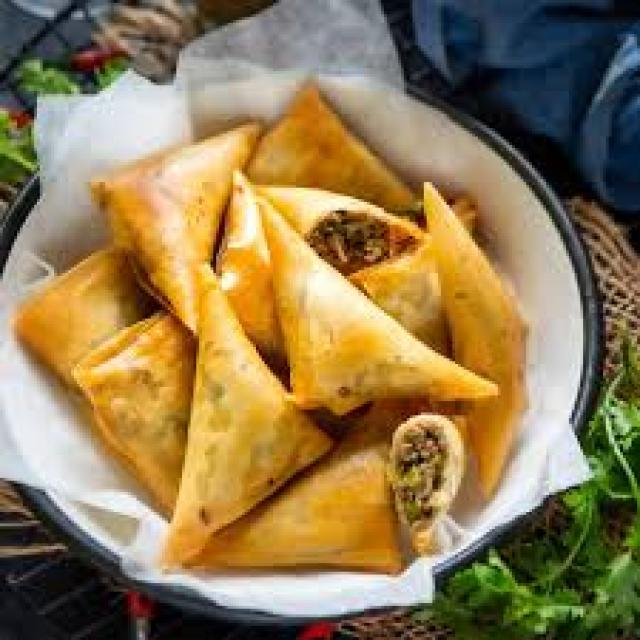SAMOSA: (260, 202, 500, 409), (163, 272, 330, 561), (428, 175, 532, 515), (105, 125, 258, 332), (76, 299, 194, 513), (205, 450, 403, 571), (246, 83, 423, 218), (15, 236, 144, 394)
